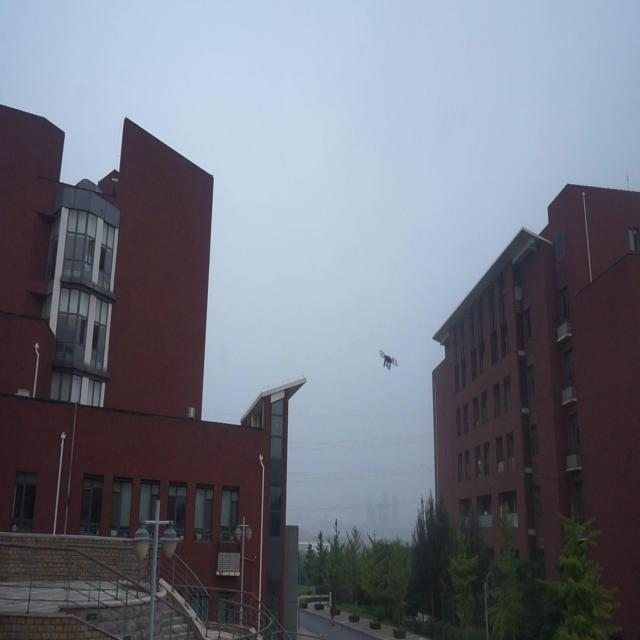UAV: (379, 349, 398, 370)
